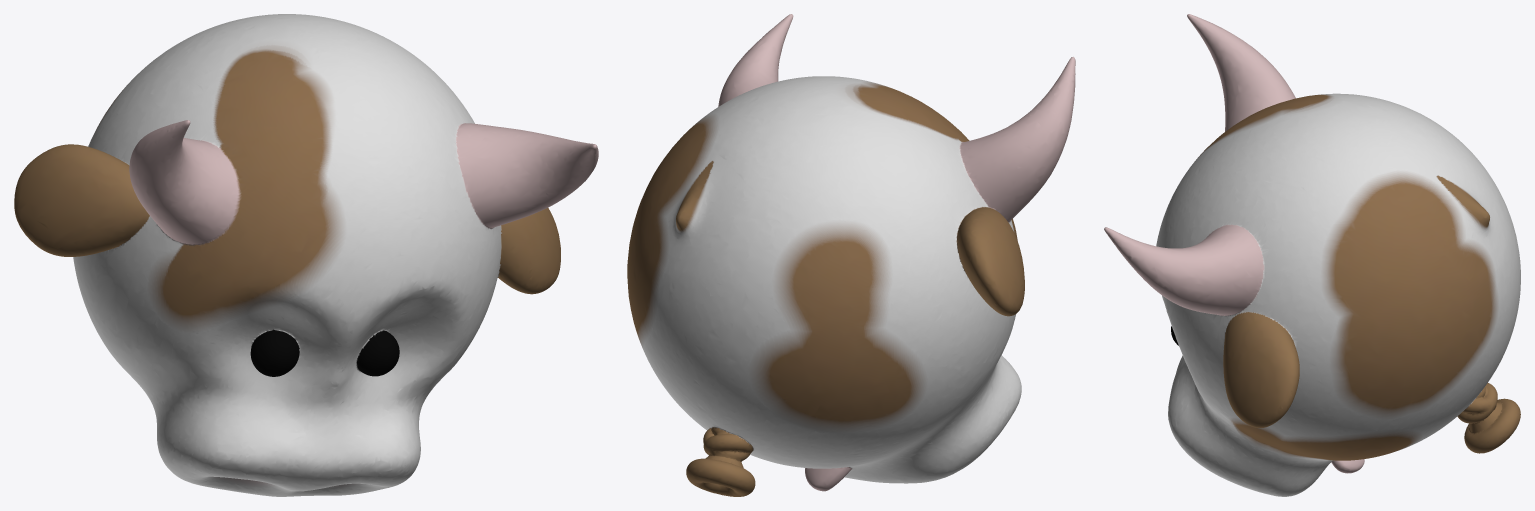
The model's file is medium__cow-balloon.glb.
3 renders of one model, left to right at view 1: azimuth 30°, elevation 25°; view 2: azimuth 150°, elevation 25°; view 3: azimuth 270°, elevation 25°, orthographic. The views are drawn at different scales.
Visible parts, largest first — view 1: Object_2; view 2: Object_2; view 3: Object_2.
Boxes of the visible parts, x1,y1,x2,y2 form: Object_2: [14, 14, 598, 496]; Object_2: [627, 14, 1075, 496]; Object_2: [1104, 14, 1520, 496].
Bounding box in the file's own units: 0.6967 × 0.6437 × 0.6219.
